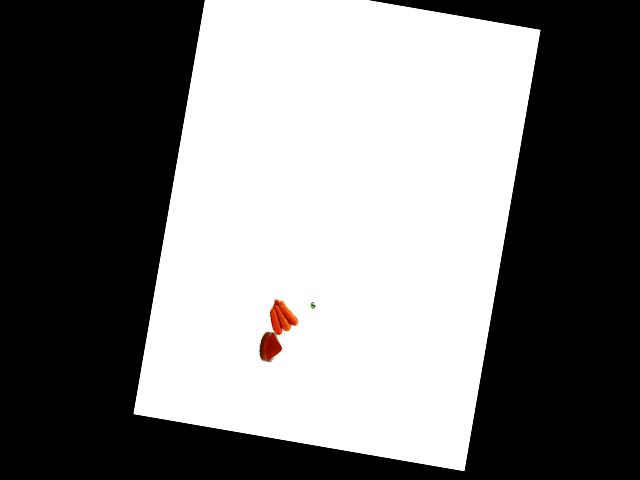carrot: (264, 305, 285, 335)
